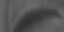LeftEyeFatigue: (16, 5, 64, 31)
